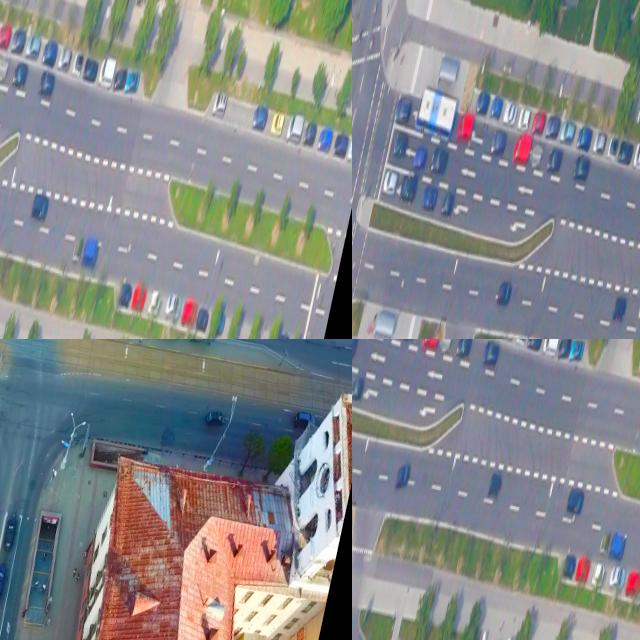UAI: (285, 110, 305, 144), (29, 191, 50, 222), (96, 55, 116, 87), (511, 135, 531, 166), (429, 146, 449, 176), (455, 110, 474, 141), (163, 291, 183, 320), (393, 93, 411, 125), (1, 515, 17, 551), (565, 487, 585, 515), (81, 237, 100, 266), (37, 69, 56, 98), (399, 173, 418, 202), (608, 532, 627, 561), (146, 285, 163, 317), (393, 461, 411, 491), (571, 154, 590, 182), (481, 339, 500, 367), (607, 563, 626, 591), (292, 409, 317, 430), (41, 38, 59, 67), (489, 128, 507, 157), (11, 60, 29, 88), (332, 131, 350, 159), (392, 130, 409, 159), (204, 407, 226, 429), (180, 300, 198, 326), (420, 185, 438, 211), (575, 125, 593, 151), (487, 470, 503, 499), (211, 90, 228, 117), (9, 28, 26, 55), (561, 551, 578, 578), (316, 127, 333, 153), (251, 104, 268, 130), (123, 68, 140, 94), (25, 32, 42, 58), (496, 280, 513, 306), (382, 169, 399, 195), (546, 147, 563, 173), (617, 140, 634, 166), (118, 280, 134, 307), (112, 65, 128, 92), (611, 295, 627, 322), (82, 57, 99, 82), (559, 120, 576, 145), (194, 306, 210, 332), (302, 120, 318, 146), (269, 110, 285, 136), (57, 46, 73, 72), (592, 128, 608, 154), (502, 99, 518, 125), (624, 569, 640, 595), (528, 142, 543, 169), (516, 104, 531, 131), (131, 285, 147, 310), (545, 113, 561, 138), (474, 90, 490, 115), (575, 556, 591, 581), (489, 93, 504, 119), (590, 560, 605, 586), (70, 50, 84, 77), (412, 145, 427, 169), (440, 193, 455, 217), (531, 111, 546, 135), (568, 339, 585, 360), (0, 22, 13, 49), (455, 339, 473, 358), (352, 375, 365, 401), (541, 339, 560, 356), (606, 135, 619, 159), (0, 560, 7, 602), (557, 339, 572, 358), (71, 240, 83, 262), (598, 533, 610, 555), (632, 140, 640, 169), (437, 339, 452, 354), (525, 339, 543, 351), (420, 339, 441, 349), (0, 58, 8, 82), (346, 136, 352, 162), (274, 331, 290, 339), (352, 339, 358, 359)
car: (413, 88, 458, 142)
